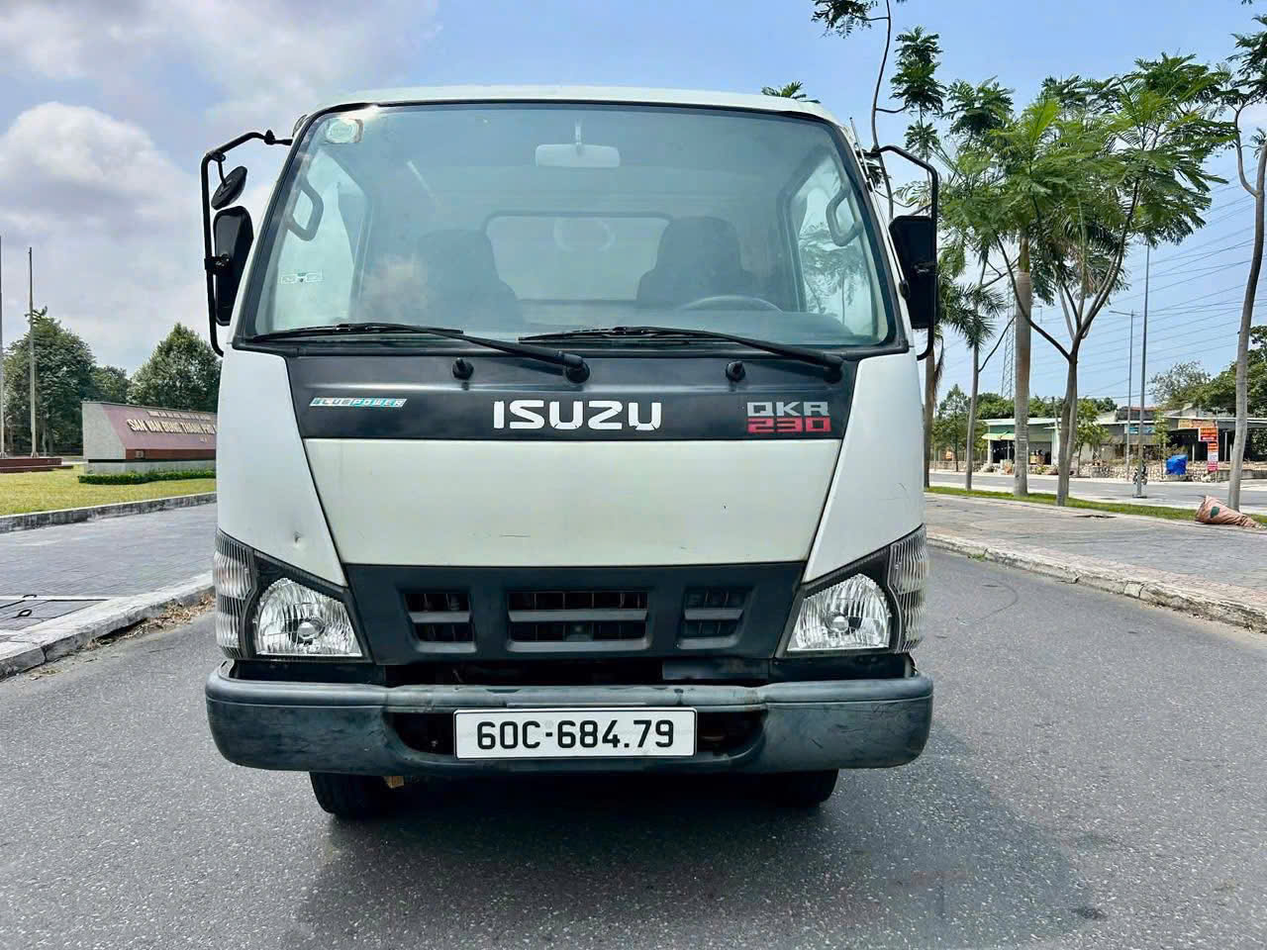Bien-so: (453, 708, 701, 763)
